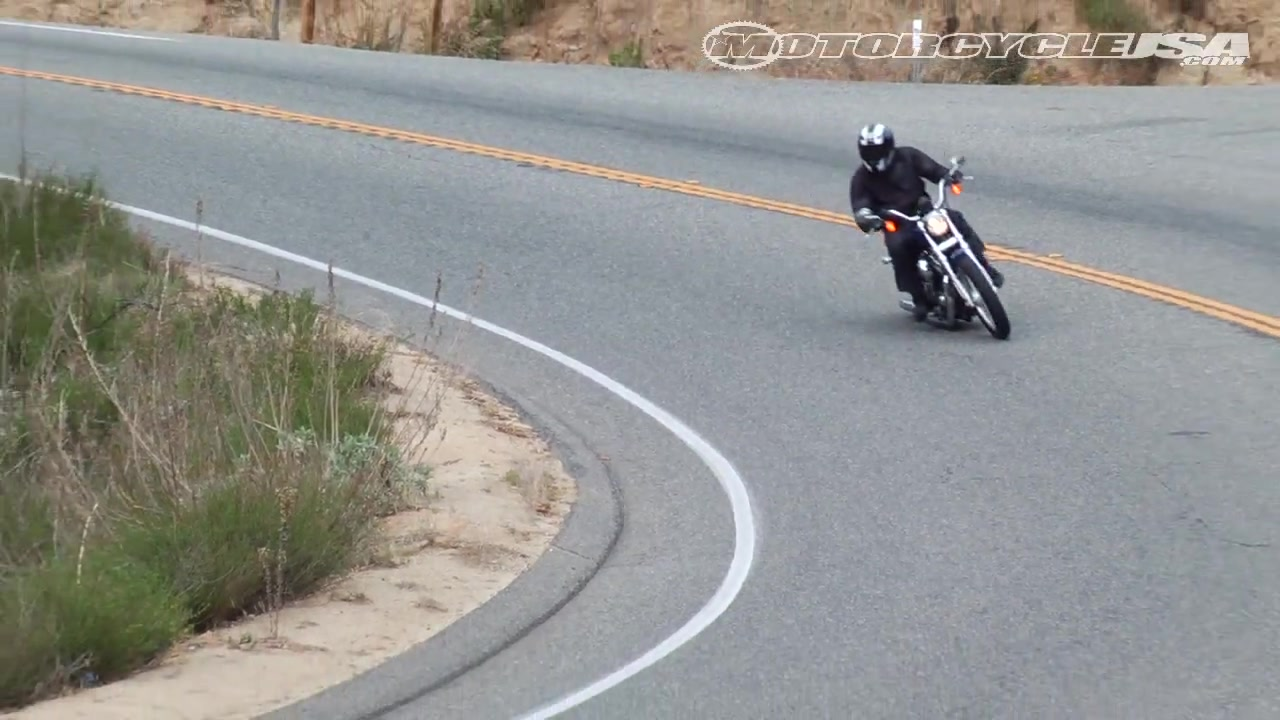motorbike: (857, 151, 1014, 346)
